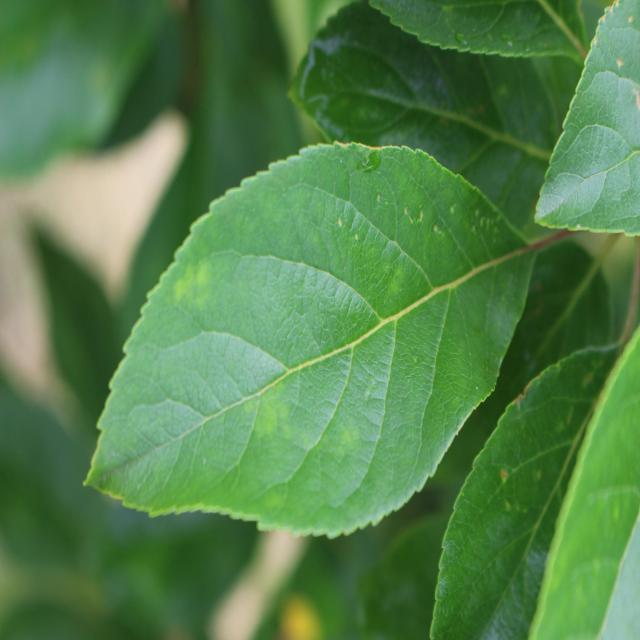healthy: (84, 141, 536, 540), (429, 336, 639, 640), (533, 1, 640, 236), (366, 0, 584, 59)
